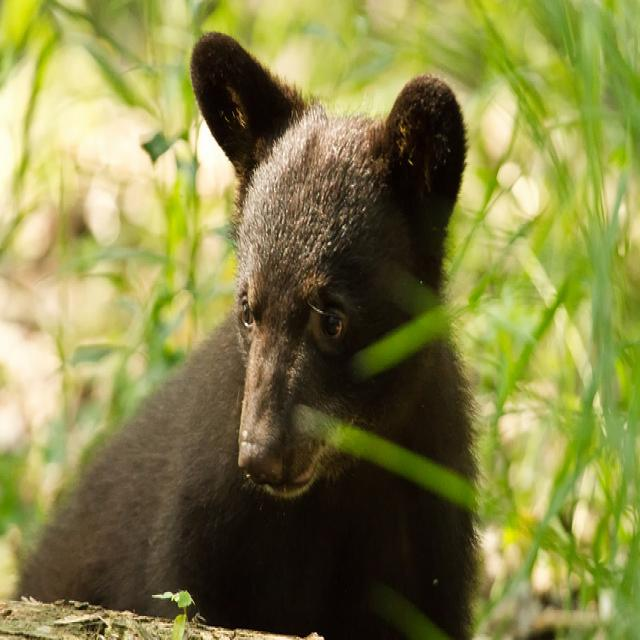Bear: (15, 21, 504, 640)
